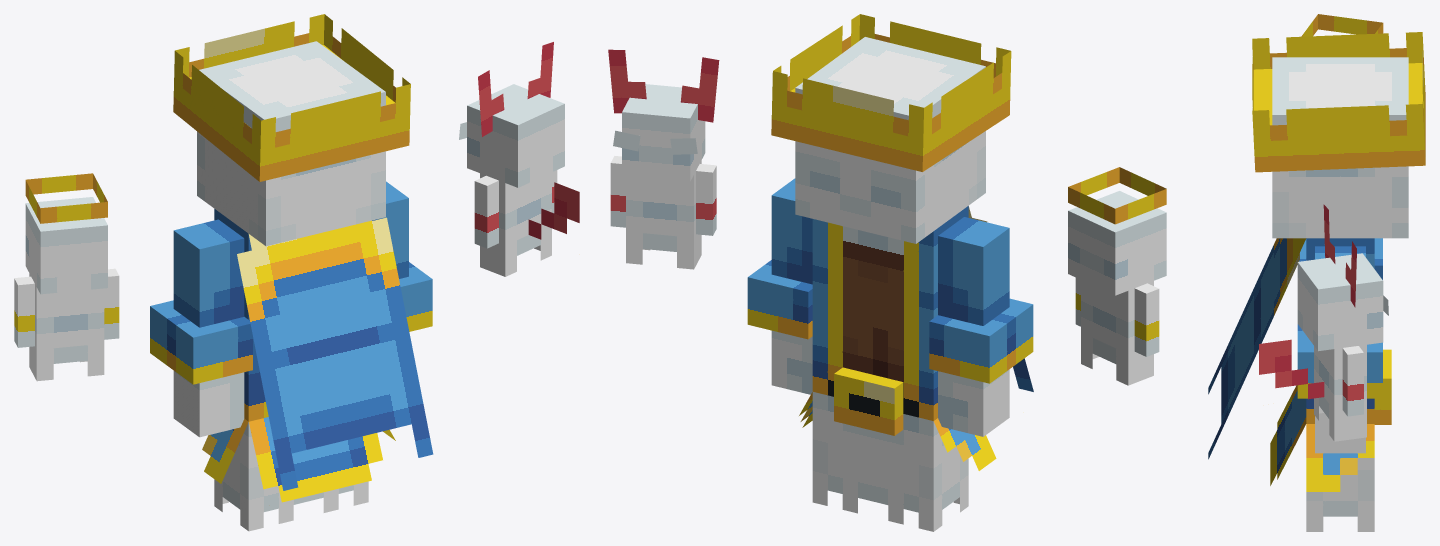
The model's file is Duality Costume C68.gltf.
3 renders of one model, left to right at view 1: azimuth 30°, elevation 25°; view 2: azimuth 150°, elevation 25°; view 3: azimuth 270°, elevation 25°, orthographic. The views are drawn at different scales.
Parts seen in each view (by area): view 1: body (×4), head, CROWN (×2), good_spirit (×6), bad_spirit (×7), leftArm (×2), rightLeg, rightArm (×2); view 2: body (×3), head, CROWN (×2), bad_spirit (×7), good_spirit (×5), leftArm (×2), rightLeg, rightArm (×2); view 3: head, CROWN (×2), bad_spirit (×7), body (×5), rightArm (×2), rightLeg, good_spirit, leftArm.
Boxes of the visible parts, x1,y1,x2,y2 form: body (×4): (202, 209, 433, 502); head: (197, 41, 385, 246); CROWN (×2): (173, 14, 410, 181); good_spirit (×6): (14, 173, 119, 381); bad_spirit (×7): (467, 42, 579, 276); leftArm (×2): (150, 219, 252, 437); rightLeg: (214, 422, 368, 531); rightArm (×2): (372, 181, 432, 331); body (×3): (812, 206, 996, 470); head: (795, 37, 985, 243); CROWN (×2): (771, 14, 1011, 171); bad_spirit (×7): (608, 49, 719, 269); good_spirit (×5): (1068, 167, 1166, 385); leftArm (×2): (929, 217, 1033, 436); rightLeg: (812, 392, 968, 531); rightArm (×2): (747, 178, 812, 394); head: (1272, 57, 1408, 238); CROWN (×2): (1252, 32, 1425, 172); bad_spirit (×7): (1259, 204, 1383, 441); body (×5): (1208, 238, 1391, 491); rightArm (×2): (1297, 246, 1382, 453); rightLeg: (1306, 458, 1374, 531); good_spirit: (1301, 14, 1383, 36); leftArm: (1299, 238, 1382, 279).
Bounding box in the file's own units: 2.26 × 1.76 × 0.8439.
Materials: 1 (1 with a texture image).
